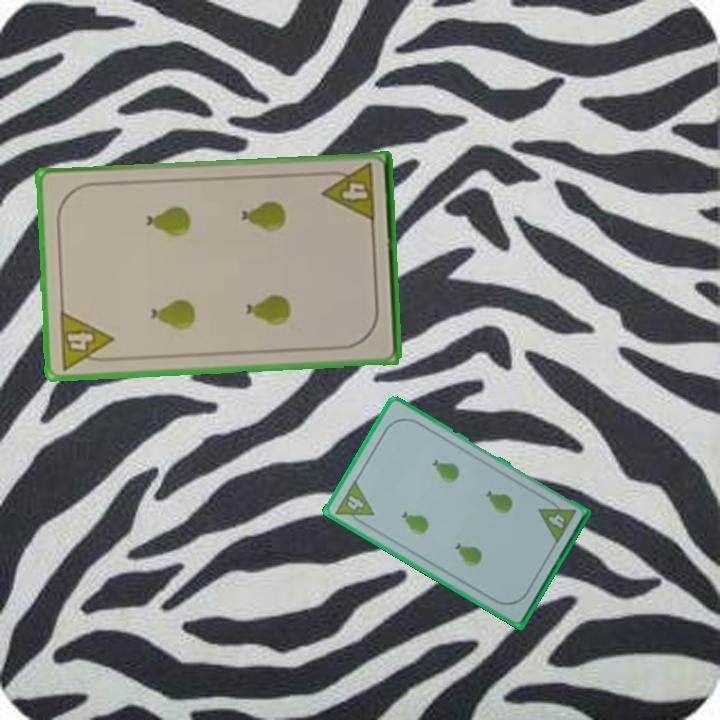4p: (55, 307, 117, 372), (319, 160, 378, 225), (331, 476, 377, 530), (535, 495, 579, 546)
